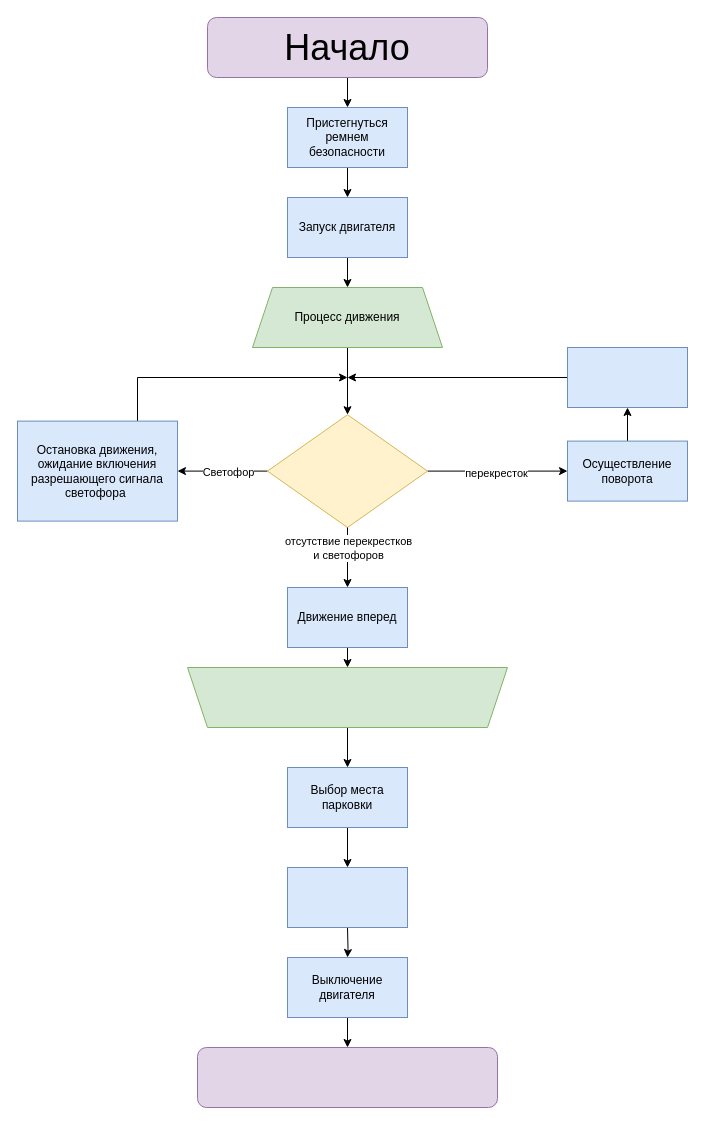
The diagram is 705 pixels wide and 1125 high, and some of its shapes have lost their labels. Each missing label, with the box of its shape:
Вращение рулевого колеса в нужную сторону: (566, 346, 688, 408)
Завершение процесса движения, после достижения места назначения: (186, 666, 508, 728)
Конец: (196, 1046, 498, 1108)
Остановка: (286, 866, 408, 928)
Оценка дорожной ситуации: (266, 414, 428, 528)
